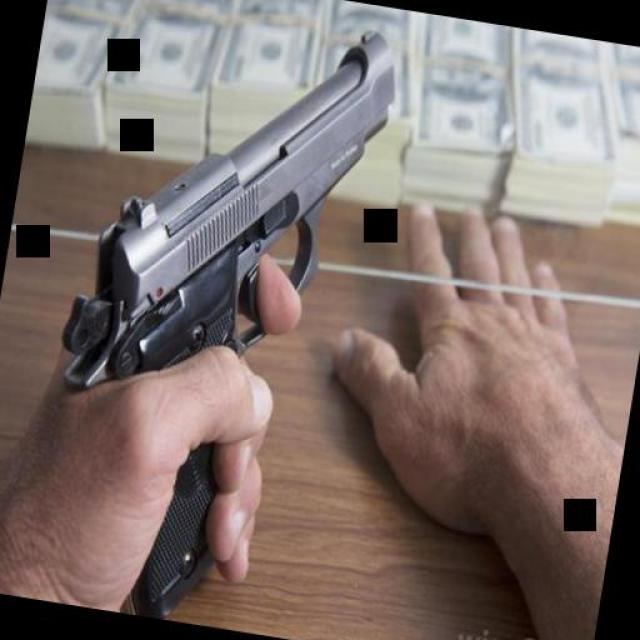gun: (19, 0, 408, 640)
